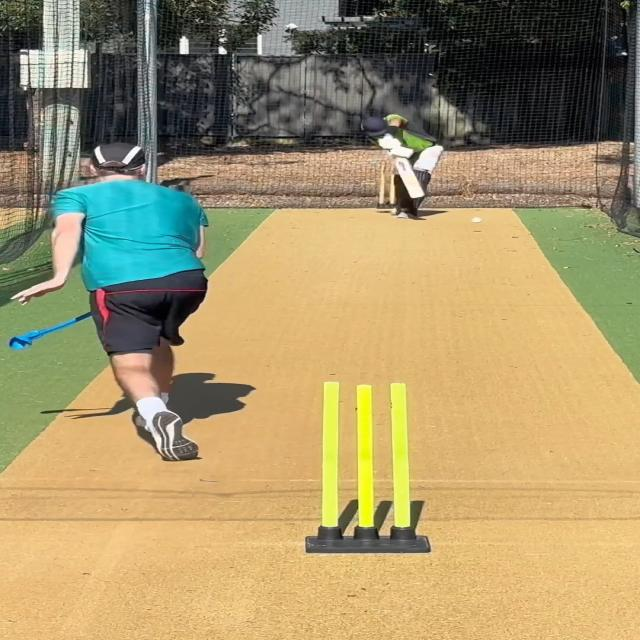ball: (469, 215, 485, 226)
stump: (304, 381, 435, 555)
